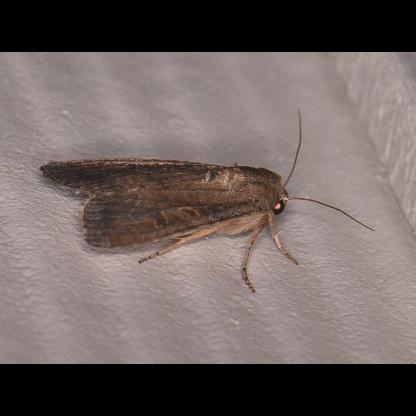Fall Armyworm Moth: (38, 107, 376, 296)
